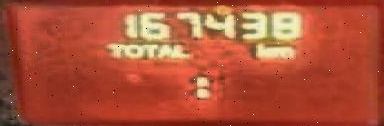1: (118, 11, 136, 38)
3: (236, 10, 265, 39)
4: (200, 11, 233, 38)
6: (136, 11, 171, 38)
7: (171, 10, 200, 39)
8: (267, 10, 302, 40)
X: (191, 75, 209, 99), (100, 41, 122, 57), (169, 41, 189, 58), (269, 44, 293, 57), (249, 42, 269, 57), (122, 42, 140, 57), (153, 42, 169, 58), (140, 42, 153, 58)
